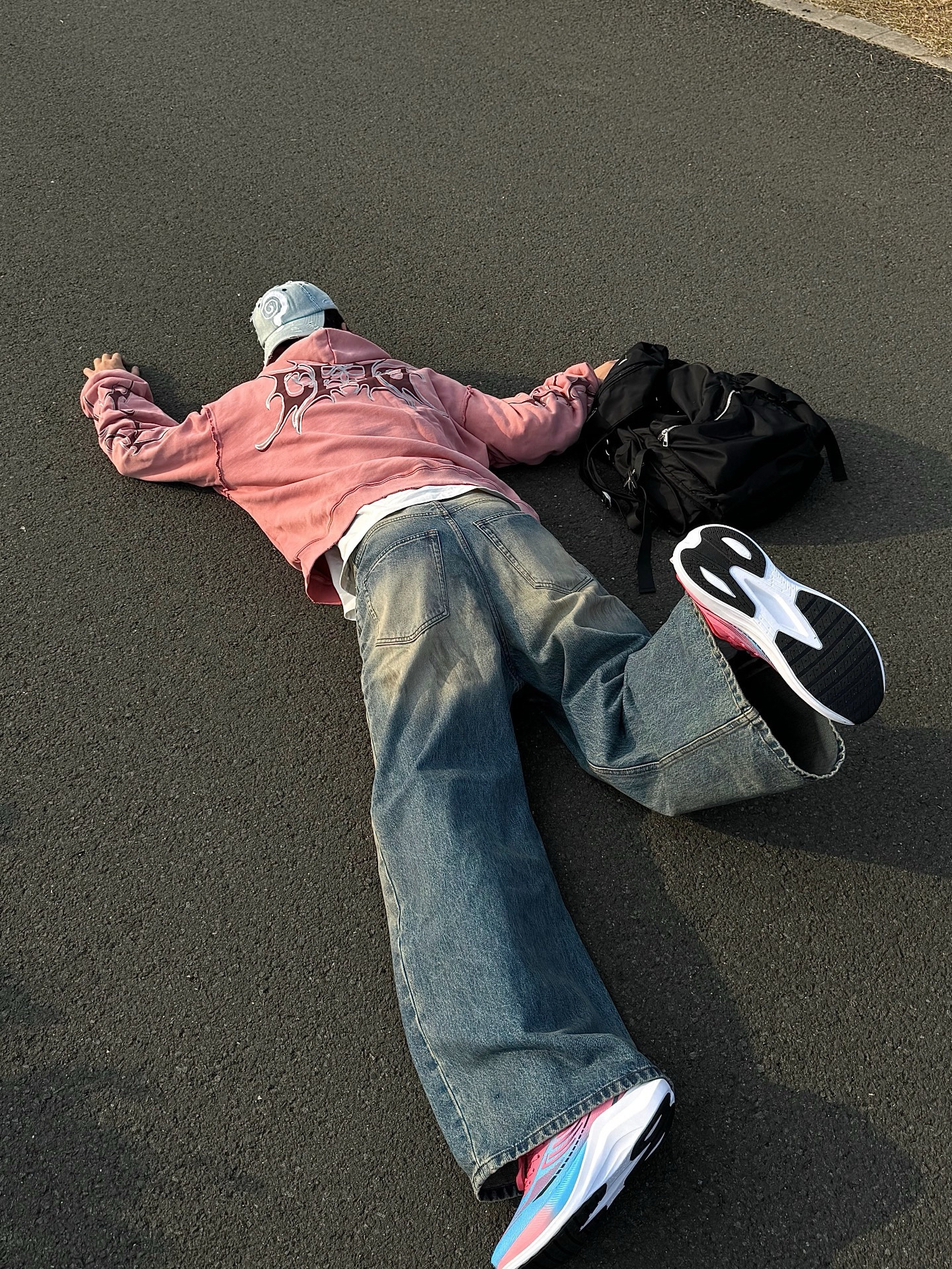down: (52, 270, 887, 1262)
